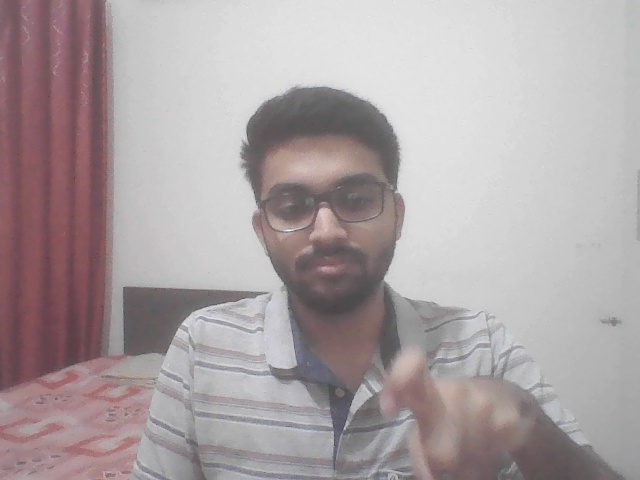need: (361, 323, 592, 477)
